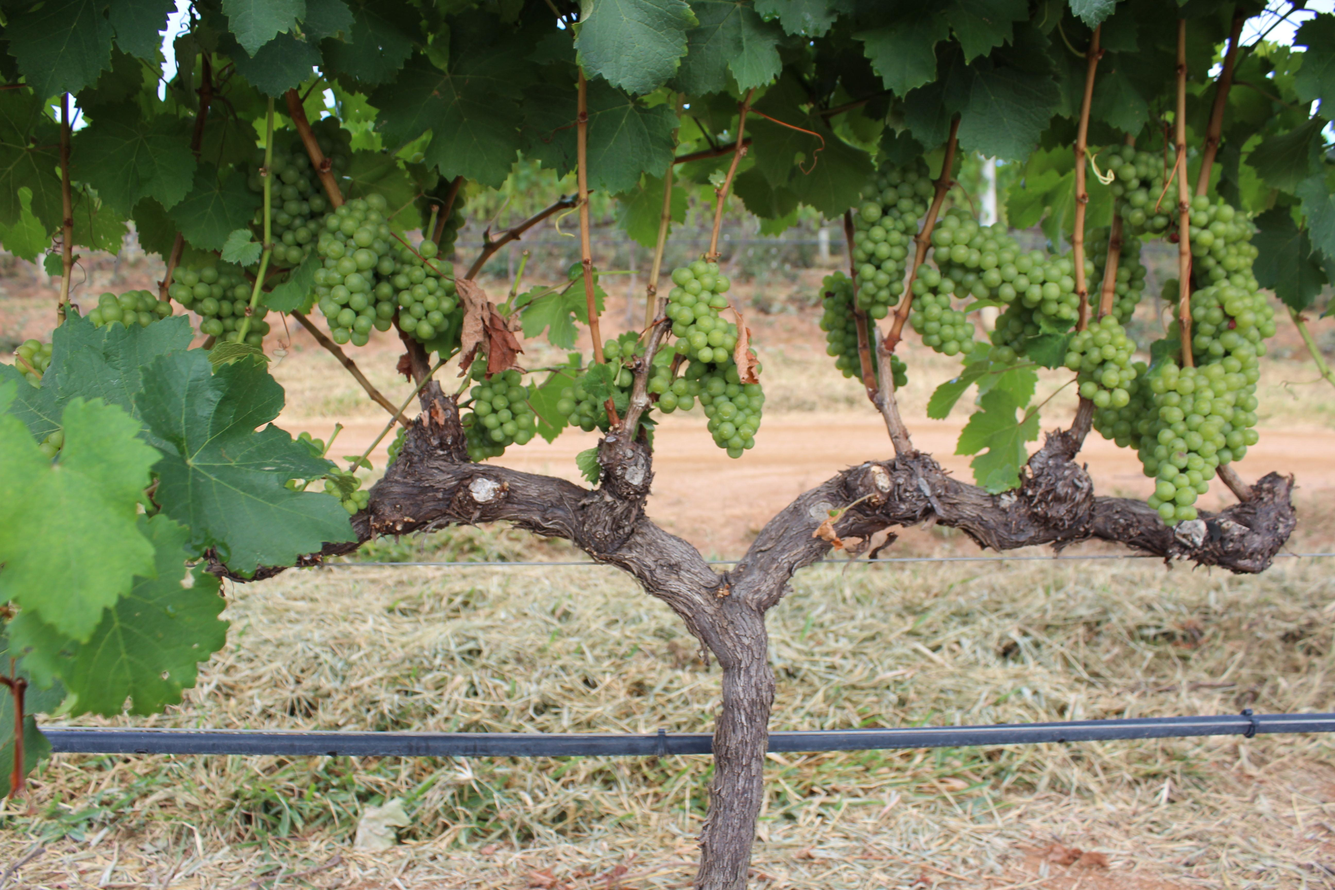leaf: (136, 350, 355, 573), (9, 514, 227, 715), (0, 399, 160, 640), (72, 102, 196, 215), (575, 0, 697, 94), (4, 0, 113, 101), (674, 0, 782, 95), (959, 66, 1060, 160), (956, 387, 1039, 494), (854, 4, 949, 96), (0, 90, 62, 230), (321, 0, 420, 87), (168, 164, 262, 250), (1252, 208, 1327, 311), (1246, 117, 1328, 192), (943, 0, 1029, 61), (222, 0, 306, 57), (343, 151, 420, 213), (528, 353, 581, 442), (1293, 13, 1335, 117), (108, 0, 176, 62), (0, 186, 50, 261), (261, 252, 322, 312), (755, 0, 846, 37), (1295, 174, 1335, 257), (619, 175, 664, 248), (221, 228, 263, 266), (1068, 0, 1117, 28), (576, 447, 601, 485), (668, 183, 687, 231), (0, 384, 14, 409), (390, 213, 413, 228), (564, 37, 569, 43), (734, 182, 738, 189), (553, 34, 557, 37), (738, 177, 739, 179)
